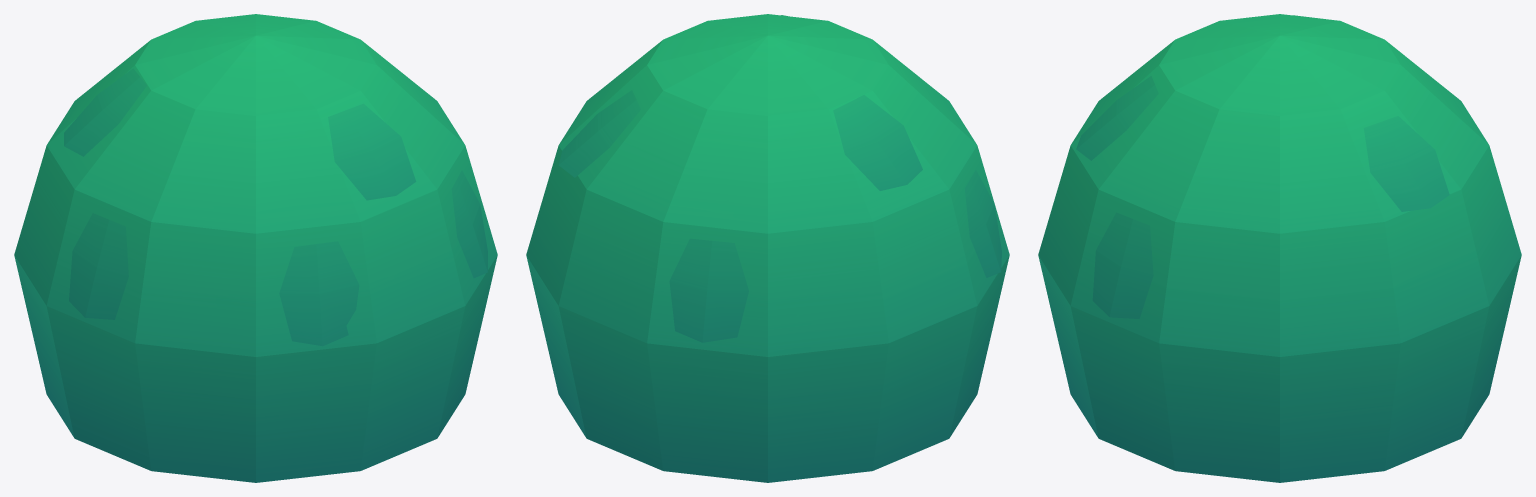
The model's file is CircularBush_Green.glb.
3 views of the same model, side by side, from view 1: azimuth 30°, elevation 25°; view 2: azimuth 150°, elevation 25°; view 3: azimuth 270°, elevation 25° (orthographic).
Visible parts, largest first — view 1: CircularBush_Green; view 2: CircularBush_Green; view 3: CircularBush_Green.
Boxes of the visible parts, x1,y1,x2,y2 form: CircularBush_Green: (14,14,497,482); CircularBush_Green: (526,14,1009,482); CircularBush_Green: (1038,14,1521,482).
Size of the model in its own units: 1.38 by 1.23 by 1.38.
Materials: 1 (1 with a texture image).
